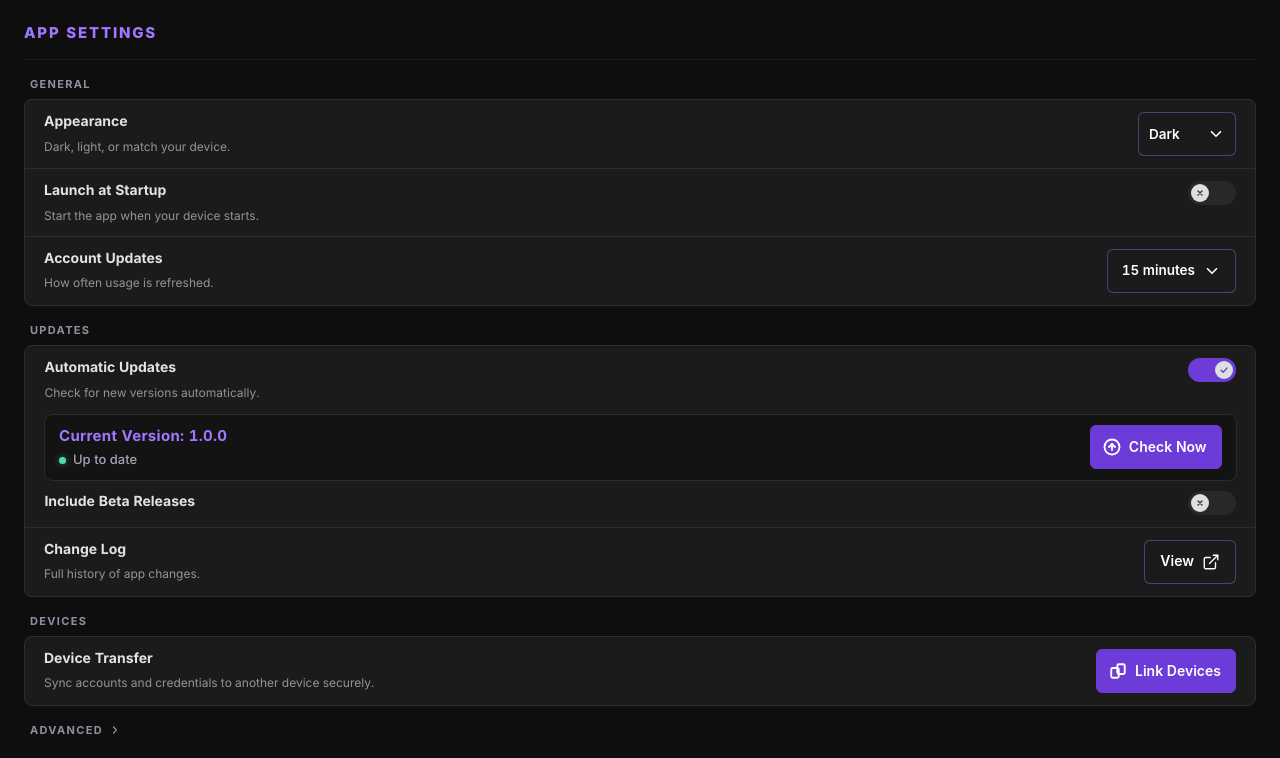
Test: SettingsView accessibility › remembers whether the Advanced section is expanded or collapsed
This screenshot has width=1280, height=758.
// Click to expand
Click the button with class "settings-advanced-toggle": (74, 730) [29, 724, 118, 737]
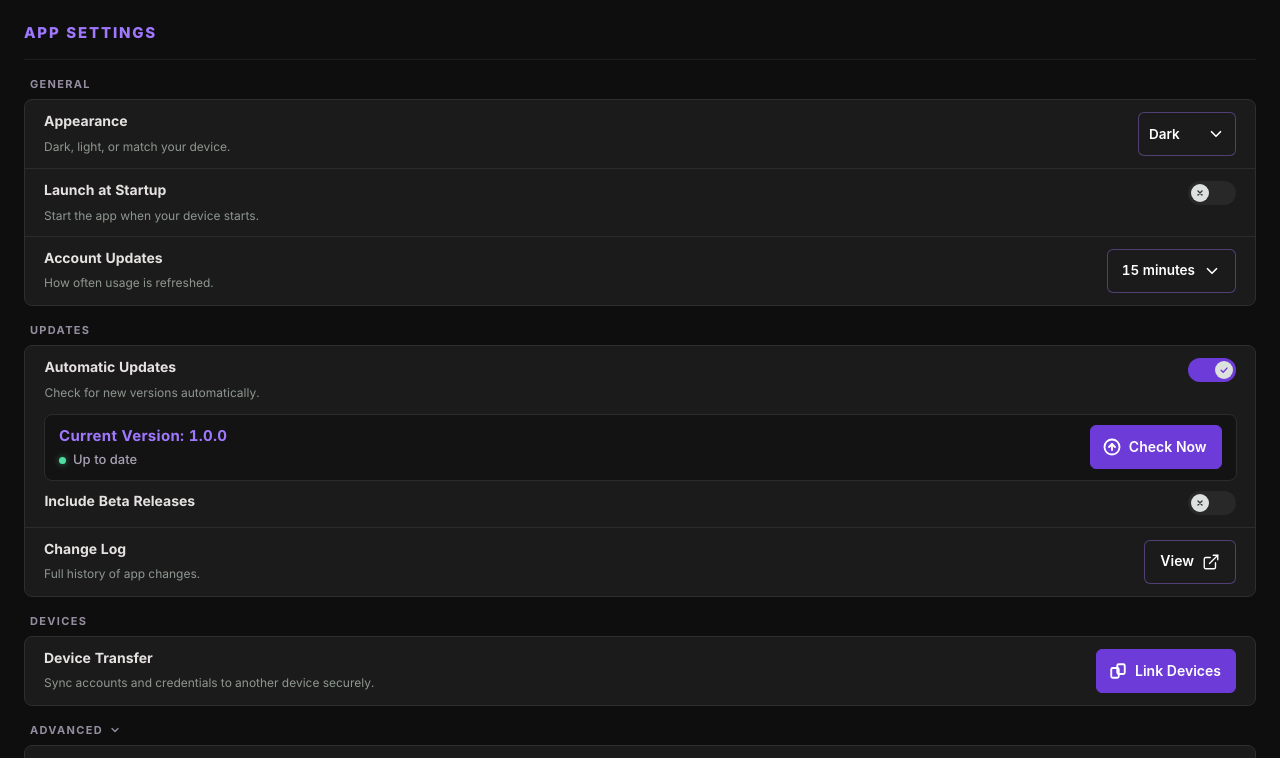
Now the button with class "settings-advanced-toggle" is expanded
// Click to collapse
Click the button with class "settings-advanced-toggle": (74, 730) [29, 724, 120, 737]
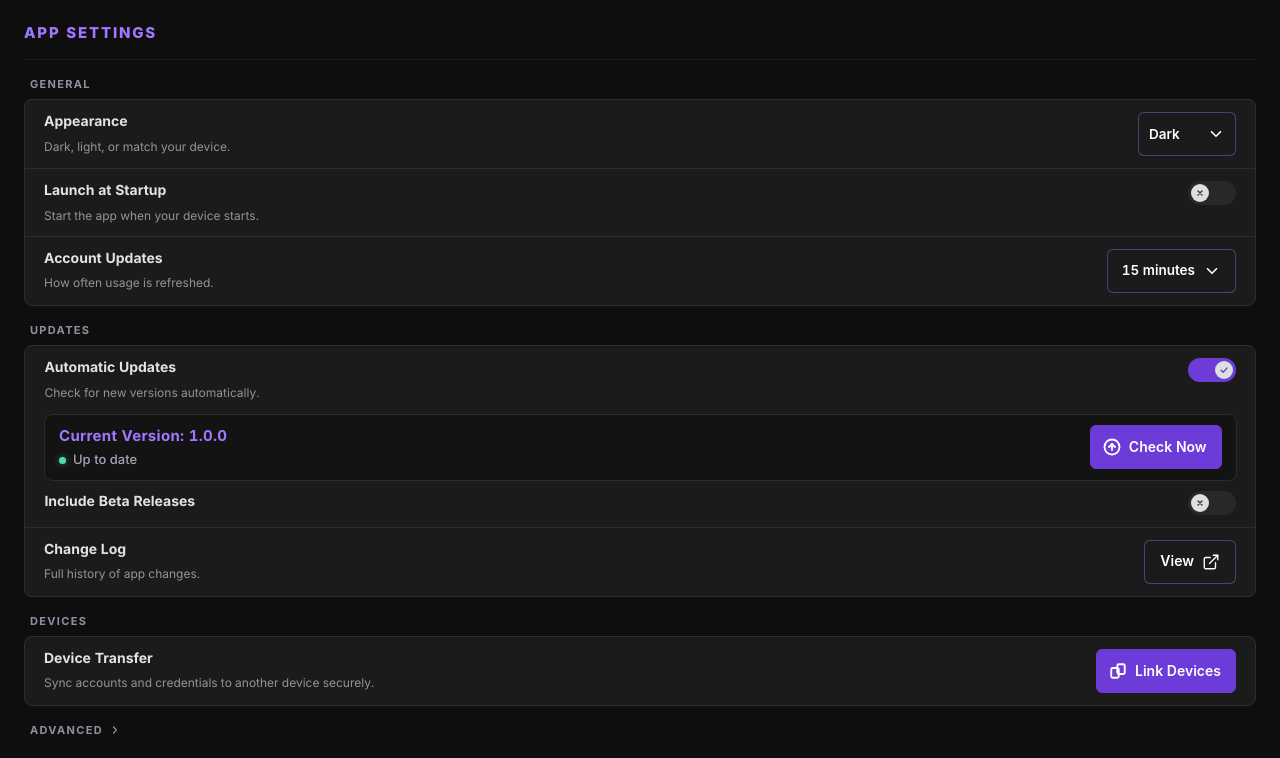
Now the button with class "settings-advanced-toggle" is collapsed, box [29, 724, 118, 737]
Now the button with id "settings-advanced-content" is gone
